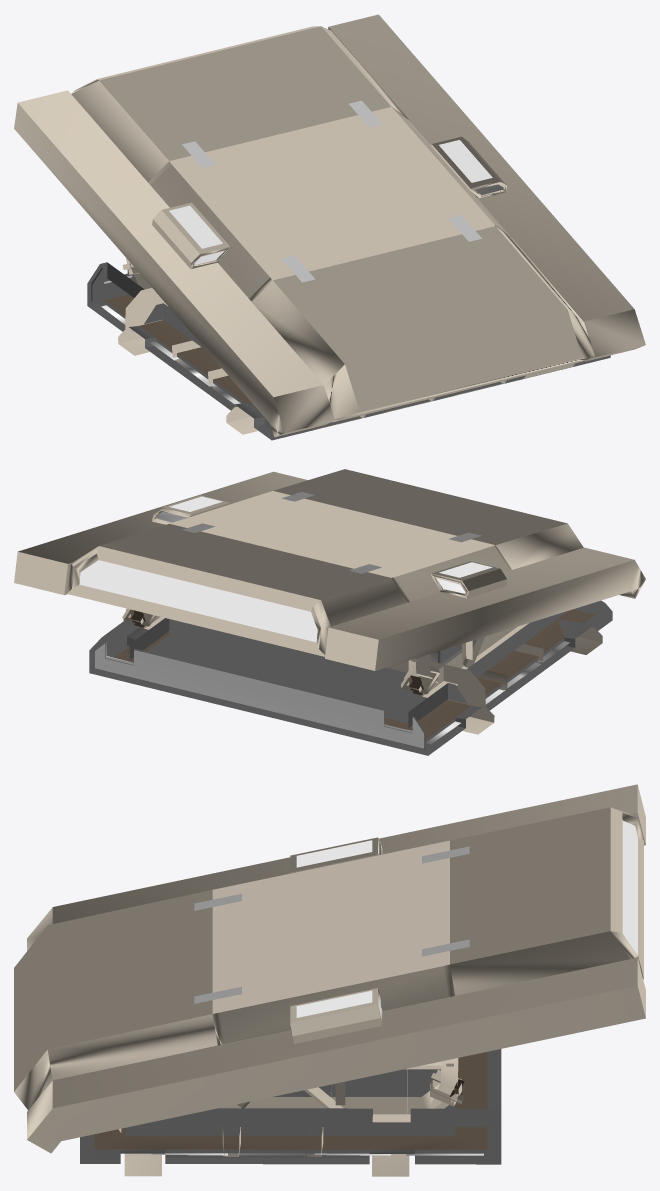
Rendered from barrier_a2_04x05x02.glb.
3 renders of one model, top to bottom at view 1: azimuth 30°, elevation 25°; view 2: azimuth 150°, elevation 25°; view 3: azimuth 270°, elevation 25°, orthographic. The views are drawn at different scales.
Size of the model in its own units: 3.99 by 1.92 by 5.29.
